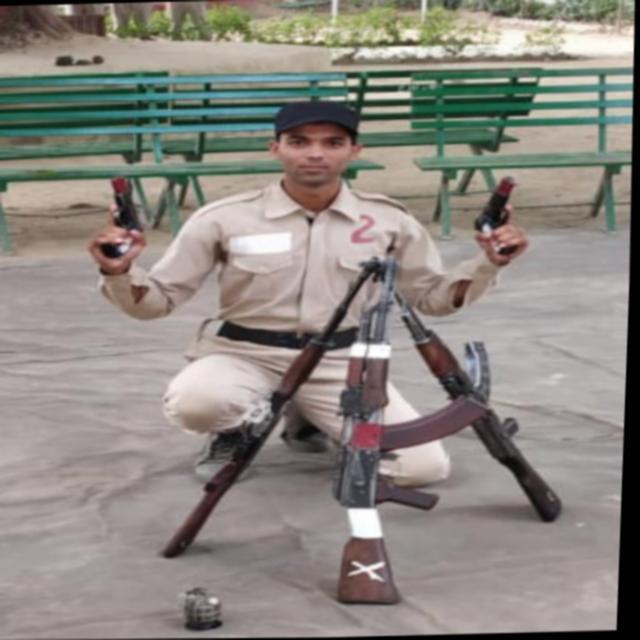weapon: (88, 172, 159, 262), (466, 173, 528, 266)
